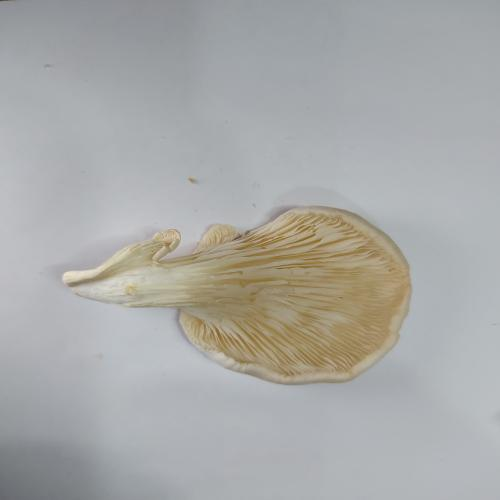Oyster Mushroom: (62, 204, 413, 386)
